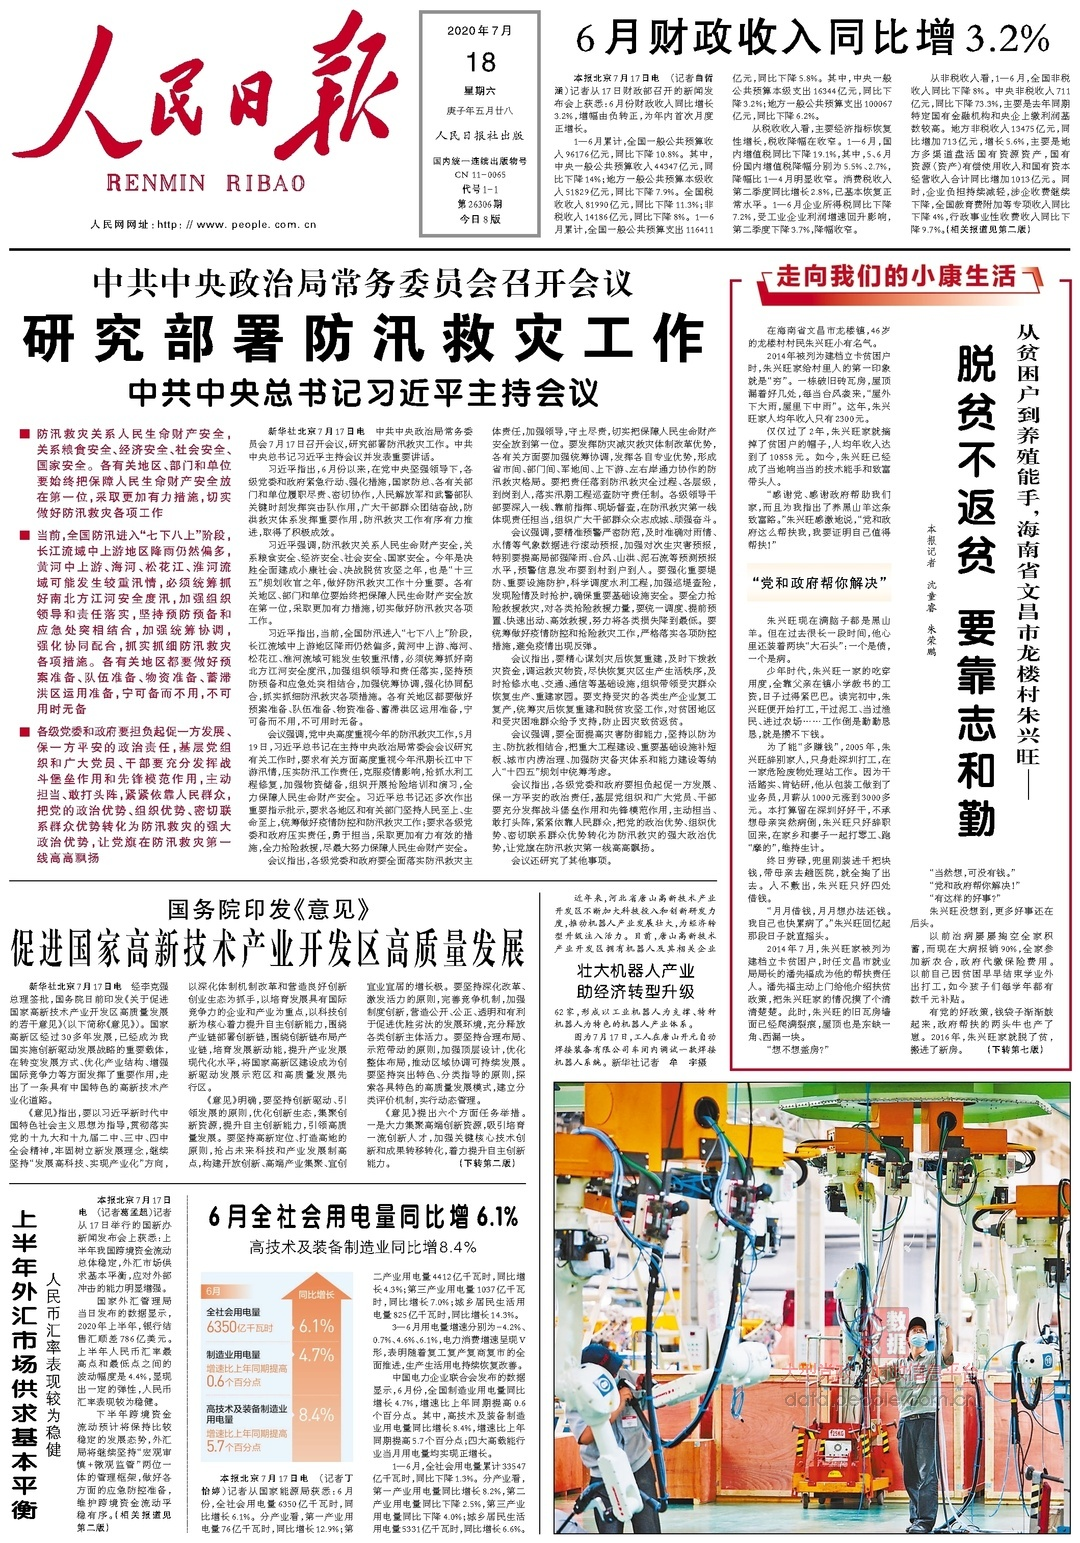pic: (546, 1075, 1074, 1543)
